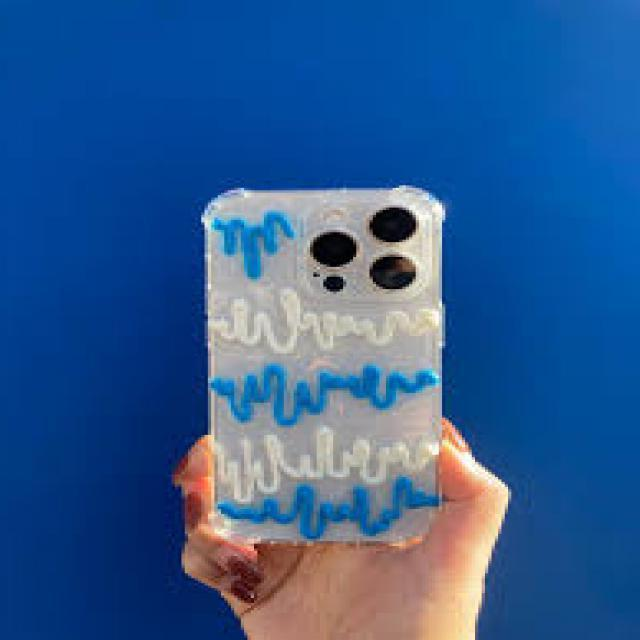mobile: (201, 185, 446, 548)
